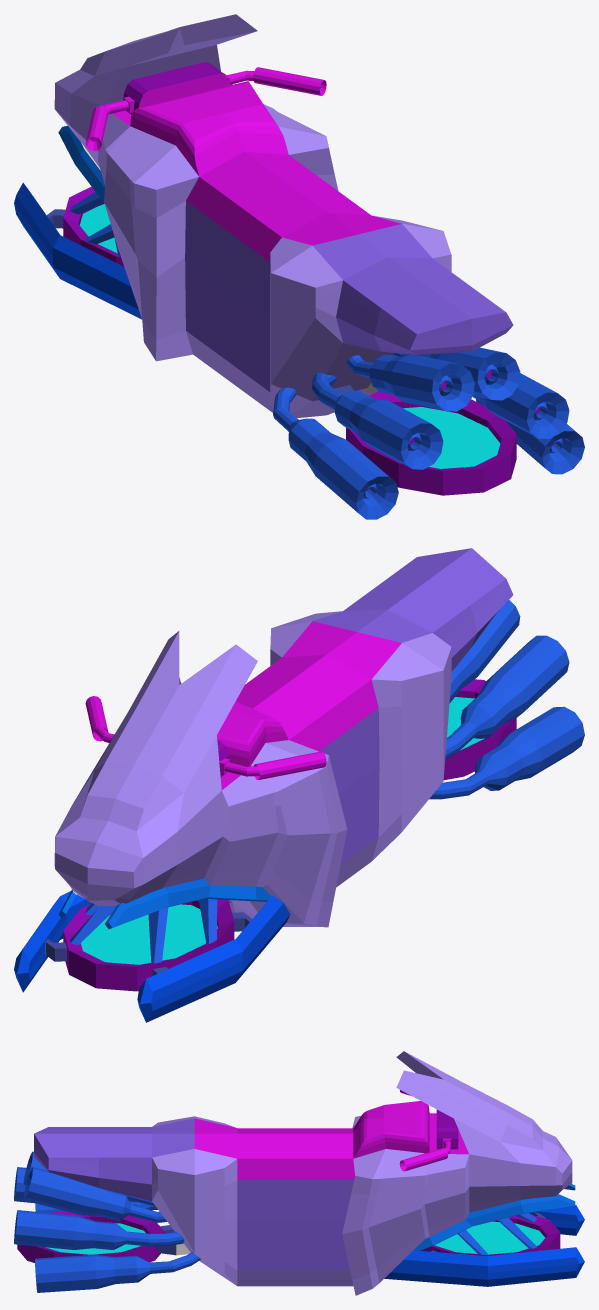
File: hower_skin_2_colored.fbx
The picture shows the model from 3 angles, top to bottom: view 1: azimuth 30°, elevation 25°; view 2: azimuth 150°, elevation 25°; view 3: azimuth 270°, elevation 25°; orthographic projection. The views are drawn at different scales.
Parts seen in each view (by area): view 1: Cube; view 2: Cube; view 3: Cube.
Boxes of the visible parts, x1,y1,x2,y2 form: Cube: [14, 14, 584, 519]; Cube: [14, 548, 584, 1022]; Cube: [14, 1051, 584, 1295].
Size of the model in its own units: 133 by 162 by 391.
